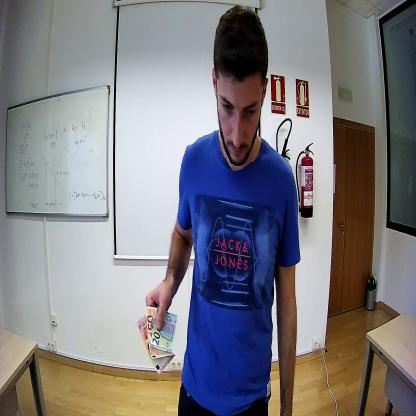billete: (136, 314, 176, 375), (145, 306, 176, 360), (148, 306, 176, 354)
